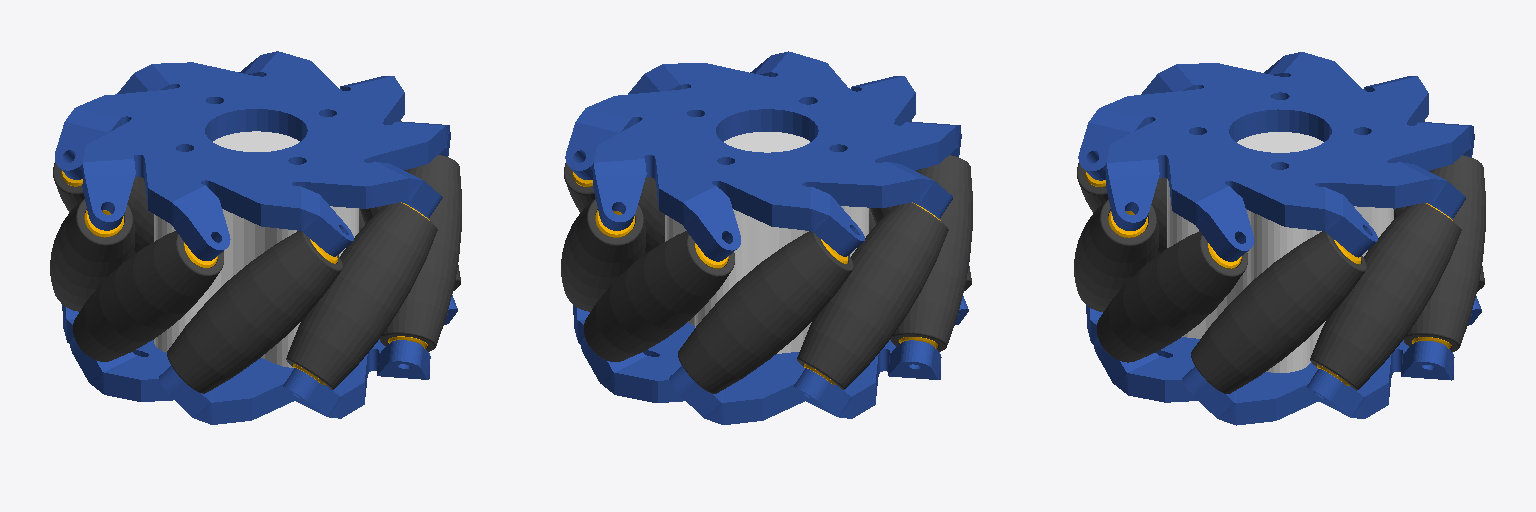
The model's file is mecanum_bot_wheel.obj.
The picture shows the model from 3 angles: view 1: azimuth 30°, elevation 25°; view 2: azimuth 150°, elevation 25°; view 3: azimuth 270°, elevation 25°; orthographic projection.
Parts seen in each view (by area): view 1: mesh209, mesh6, mesh5, mesh4, mesh208, mesh7, mesh40, mesh214, mesh206, mesh1, mesh50, mesh185 (+27 smaller); view 2: mesh209, mesh6, mesh5, mesh4, mesh208, mesh7, mesh214, mesh37, mesh151, mesh36, mesh1, mesh50 (+25 smaller); view 3: mesh209, mesh6, mesh5, mesh4, mesh208, mesh7, mesh33, mesh214, mesh100, mesh127, mesh126, mesh143 (+20 smaller).
Part boxes in pixels (x1,y1,x2,y2): mesh209: (76, 51, 444, 208); mesh6: (50, 178, 460, 390); mesh5: (53, 120, 461, 332); mesh4: (55, 183, 437, 340); mesh208: (68, 319, 429, 402); mesh7: (57, 207, 395, 392); mesh40: (198, 209, 272, 362); mesh214: (205, 109, 307, 141); mesh206: (85, 174, 135, 221); mesh1: (54, 164, 341, 273); mesh50: (213, 131, 299, 151); mesh185: (55, 122, 108, 170); mesh209: (587, 52, 955, 208); mesh6: (561, 206, 971, 390); mesh5: (564, 120, 972, 332); mesh4: (565, 181, 948, 340); mesh208: (578, 320, 940, 402); mesh7: (568, 207, 905, 393); mesh214: (716, 109, 818, 141); mesh37: (751, 217, 811, 353); mesh151: (596, 174, 646, 221); mesh36: (695, 209, 750, 327); mesh1: (565, 164, 852, 273); mesh50: (724, 132, 809, 152); mesh209: (1099, 52, 1468, 208); mesh6: (1074, 206, 1484, 391); mesh5: (1077, 121, 1485, 332); mesh4: (1079, 184, 1460, 341); mesh208: (1091, 320, 1453, 402); mesh7: (1081, 207, 1418, 393); mesh33: (1250, 211, 1310, 372); mesh214: (1229, 109, 1331, 141); mesh100: (1109, 174, 1451, 380); mesh127: (1236, 205, 1324, 425); mesh126: (1239, 184, 1318, 420); mesh143: (1165, 183, 1394, 402).
Bounding box in the file's own units: 0.1003 × 0.067 × 0.1.